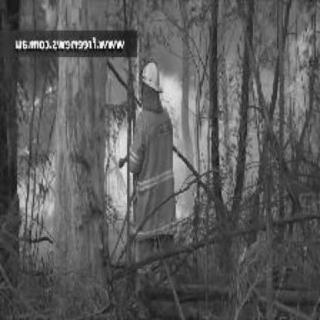Fire: (279, 20, 317, 157), (173, 64, 200, 220), (100, 105, 133, 223), (17, 147, 60, 233)
